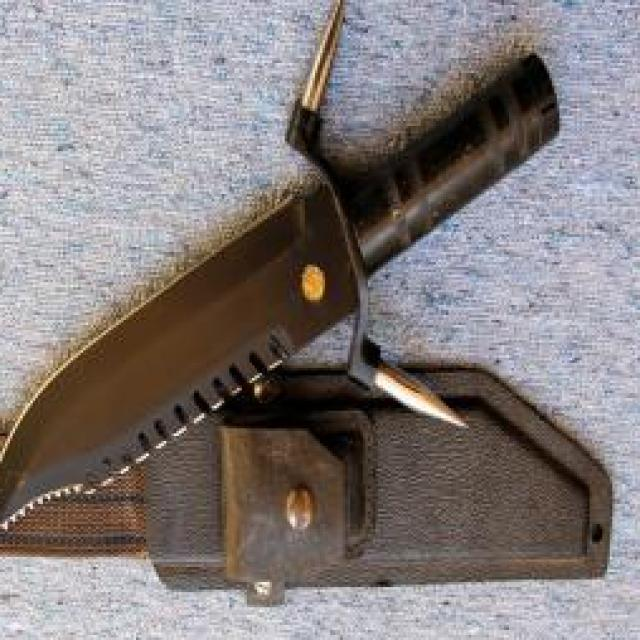knife: (0, 204, 340, 559)
